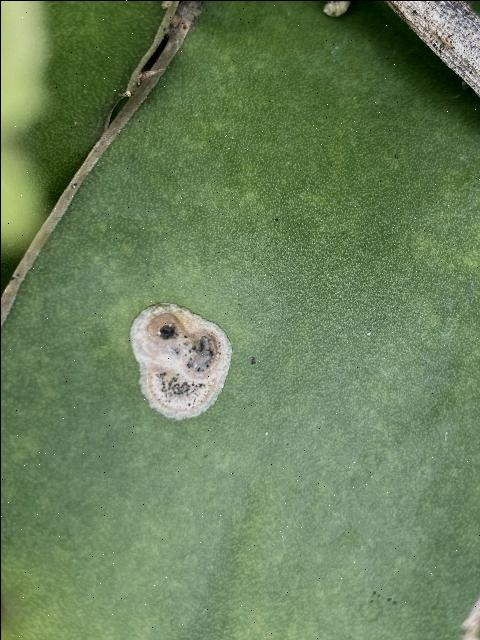stemcanker: (126, 301, 235, 422)
